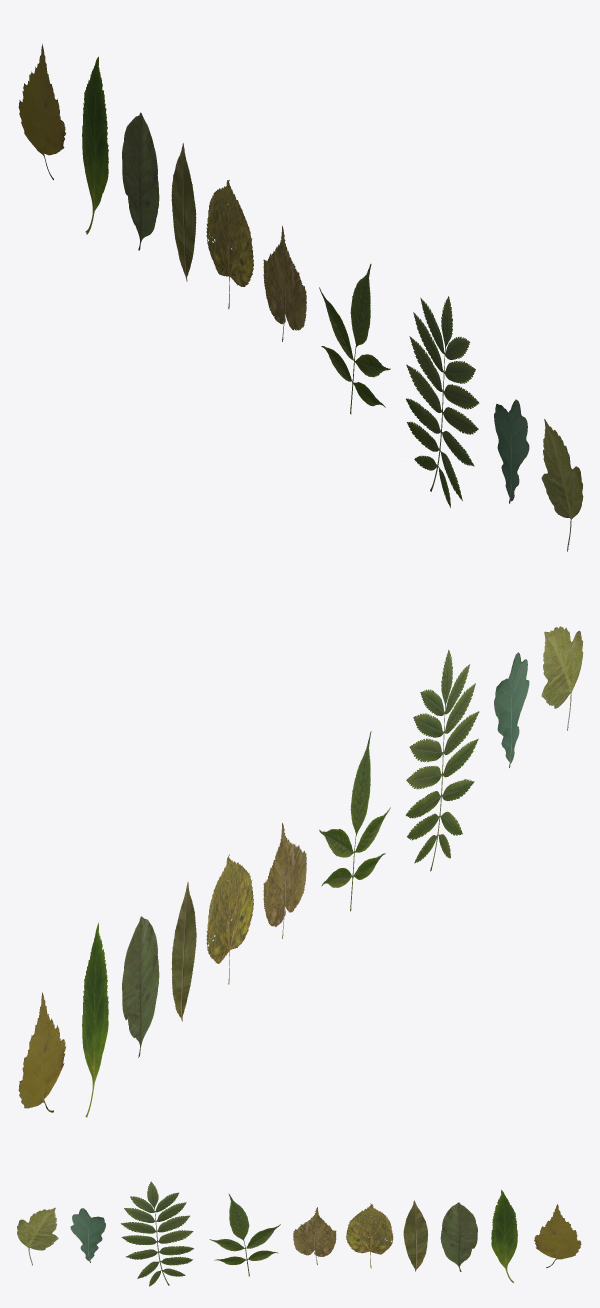
Rendered from Leaf set.fbx.
3 views of the same model, one above another, from view 1: azimuth 30°, elevation 25°; view 2: azimuth 150°, elevation 25°; view 3: azimuth 270°, elevation 25° (orthographic). The views are drawn at different scales.
Parts seen in each view (by area): view 1: leaf 3, leaf 6, leaf 8, leaf 4, leaf 10, leaf 9, leaf 5, leaf 1, leaf 7, leaf 2; view 2: leaf 3, leaf 6, leaf 8, leaf 4, leaf 10, leaf 9, leaf 5, leaf 1, leaf 7, leaf 2; view 3: leaf 3, leaf 6, leaf 8, leaf 4, leaf 10, leaf 9, leaf 5, leaf 1, leaf 7, leaf 2.
Part boxes in pixels (box(x1,y1,x2,y2)): leaf 3: box(406, 296, 479, 507); leaf 6: box(206, 180, 253, 308); leaf 8: box(122, 112, 159, 250); leaf 4: box(319, 264, 390, 414); leaf 10: box(18, 44, 65, 180); leaf 9: box(82, 56, 108, 234); leaf 5: box(263, 226, 306, 341); leaf 1: box(541, 419, 583, 551); leaf 7: box(171, 143, 196, 281); leaf 2: box(494, 399, 529, 503); leaf 3: box(405, 649, 479, 871); leaf 6: box(206, 854, 253, 984); leaf 8: box(122, 916, 159, 1057); leaf 4: box(319, 731, 390, 911); leaf 10: box(18, 992, 66, 1112); leaf 9: box(82, 922, 108, 1117); leaf 5: box(263, 823, 306, 938); leaf 1: box(541, 626, 583, 730); leaf 7: box(171, 881, 196, 1021); leaf 2: box(494, 652, 529, 767); leaf 3: box(121, 1181, 193, 1286); leaf 6: box(346, 1203, 393, 1268); leaf 8: box(440, 1202, 477, 1271); leaf 4: box(209, 1194, 280, 1276); leaf 10: box(534, 1204, 581, 1267); leaf 9: box(491, 1190, 517, 1282); leaf 5: box(293, 1207, 336, 1264); leaf 1: box(17, 1207, 58, 1265); leaf 7: box(403, 1200, 428, 1271); leaf 2: box(70, 1208, 105, 1262).
Bounding box in the file's own units: 6.11 × 262 × 1173.
